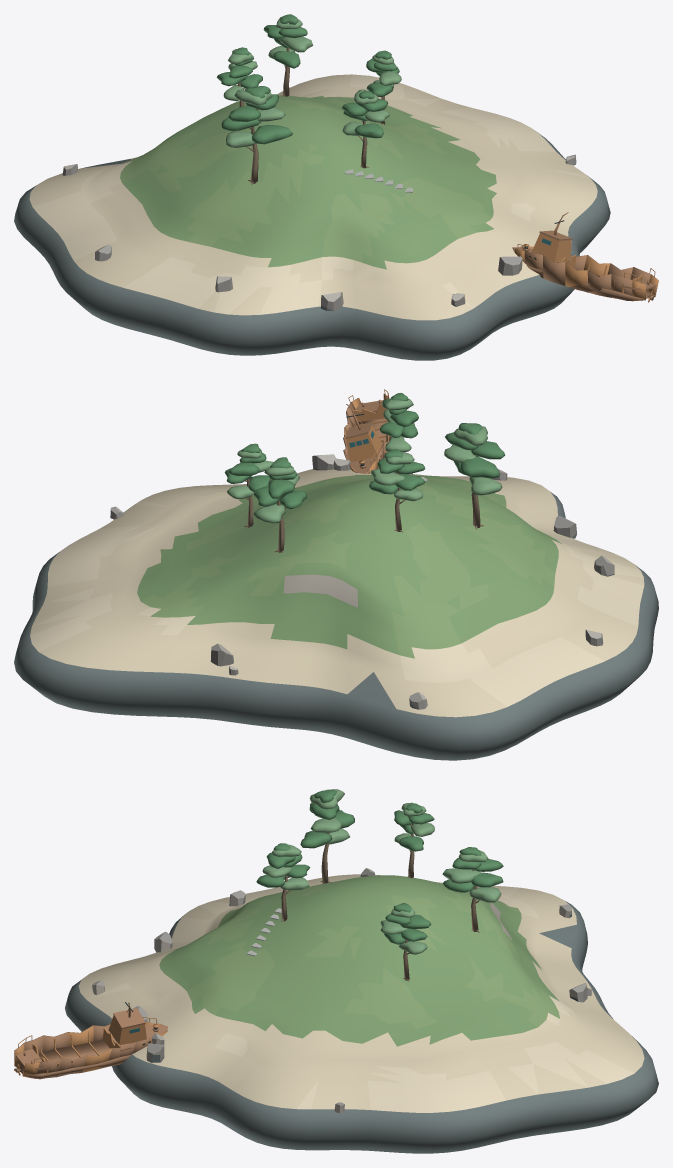
Rendered from ENV_WreckCove_LOD1.fbx.
3 renders of one model, top to bottom at view 1: azimuth 30°, elevation 25°; view 2: azimuth 150°, elevation 25°; view 3: azimuth 270°, elevation 25°, orthographic. The views are drawn at different scales.
Parts seen in each view (by area): view 1: TerrainShell, BeachedWreck_Visual, CoastalPine_2_Visual, Decor_Visual.001, CoastalPine_3_Visual, CoastalPine_4_Visual, CoastalPine_0_Visual, CoastalPine_1_Visual; view 2: TerrainShell, CoastalPine_2_Visual, BeachedWreck_Visual, Decor_Visual.001, CoastalPine_3_Visual, CoastalPine_0_Visual, CoastalPine_1_Visual, CoastalPine_4_Visual; view 3: TerrainShell, BeachedWreck_Visual, CoastalPine_3_Visual, CoastalPine_2_Visual, Decor_Visual.001, CoastalPine_4_Visual, CoastalPine_1_Visual, CoastalPine_0_Visual.
Boxes of the visible parts, x1=… form: TerrainShell: x1=14, y1=74, x2=610, y2=360; BeachedWreck_Visual: x1=512, y1=212, x2=658, y2=302; CoastalPine_2_Visual: x1=221, y1=86, x2=293, y2=184; Decor_Visual.001: x1=62, y1=154, x2=576, y2=311; CoastalPine_3_Visual: x1=263, y1=14, x2=312, y2=96; CoastalPine_4_Visual: x1=342, y1=89, x2=389, y2=168; CoastalPine_0_Visual: x1=216, y1=47, x2=262, y2=106; CoastalPine_1_Visual: x1=366, y1=50, x2=401, y2=124; TerrainShell: x1=14, y1=469, x2=658, y2=760; CoastalPine_2_Visual: x1=444, y1=423, x2=505, y2=529; BeachedWreck_Visual: x1=343, y1=389, x2=390, y2=473; Decor_Visual.001: x1=110, y1=454, x2=614, y2=709; CoastalPine_3_Visual: x1=253, y1=457, x2=307, y2=552; CoastalPine_0_Visual: x1=369, y1=449, x2=425, y2=532; CoastalPine_1_Visual: x1=224, y1=443, x2=273, y2=527; CoastalPine_4_Visual: x1=379, y1=393, x2=418, y2=452; TerrainShell: x1=65, y1=874, x2=658, y2=1153; BeachedWreck_Visual: x1=14, y1=1002, x2=168, y2=1079; CoastalPine_3_Visual: x1=442, y1=847, x2=503, y2=932; CoastalPine_2_Visual: x1=300, y1=789, x2=354, y2=883; Decor_Visual.001: x1=92, y1=868, x2=591, y2=1113; CoastalPine_4_Visual: x1=256, y1=843, x2=310, y2=921; CoastalPine_1_Visual: x1=380, y1=903, x2=431, y2=981; CoastalPine_0_Visual: x1=394, y1=802, x2=434, y2=878.
Bounding box in the file's own units: 2770 × 1048 × 3015.
